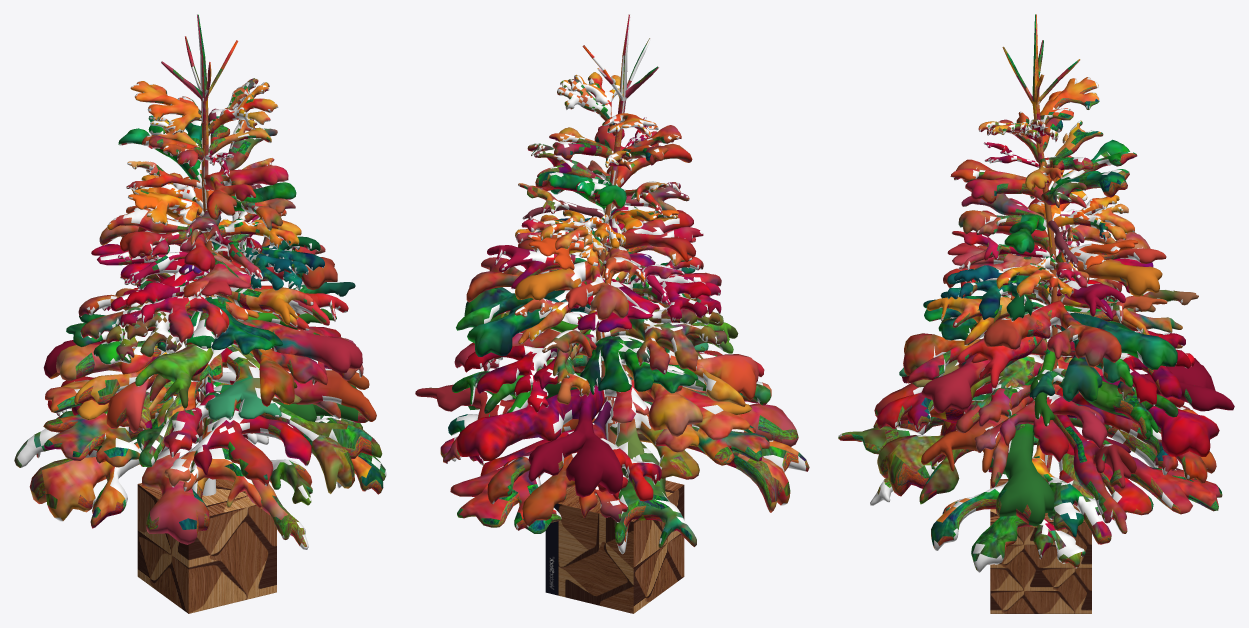
Rendered from decortree.glb.
3 views of the same model, side by side, from view 1: azimuth 30°, elevation 25°; view 2: azimuth 150°, elevation 25°; view 3: azimuth 270°, elevation 25° (orthographic).
Parts seen in each view (by area): view 1: Cube; view 2: Cube; view 3: Cube.
Boxes of the visible parts, left/top/right/bottom form: Cube: left=14, top=14, right=386, bottom=613; Cube: left=415, top=14, right=809, bottom=613; Cube: left=838, top=14, right=1234, bottom=613.
Size of the model in its own units: 1.14 by 1.91 by 1.2.
4 materials, 2 textured.
